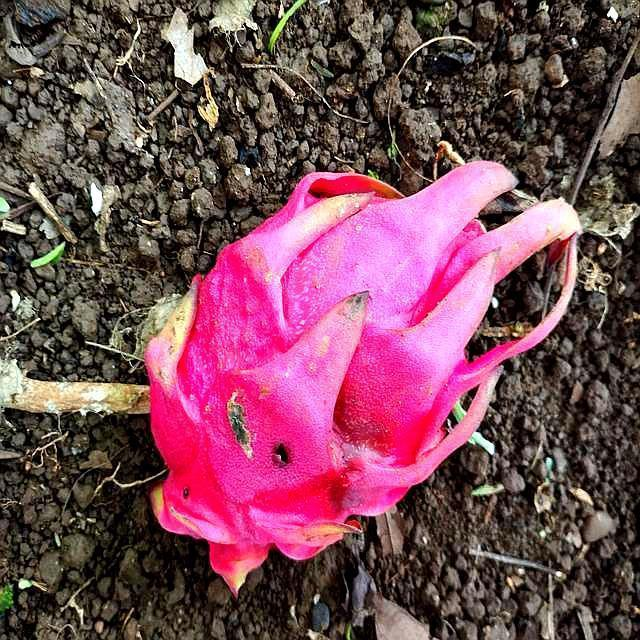Biodegradable: (135, 151, 559, 581)
